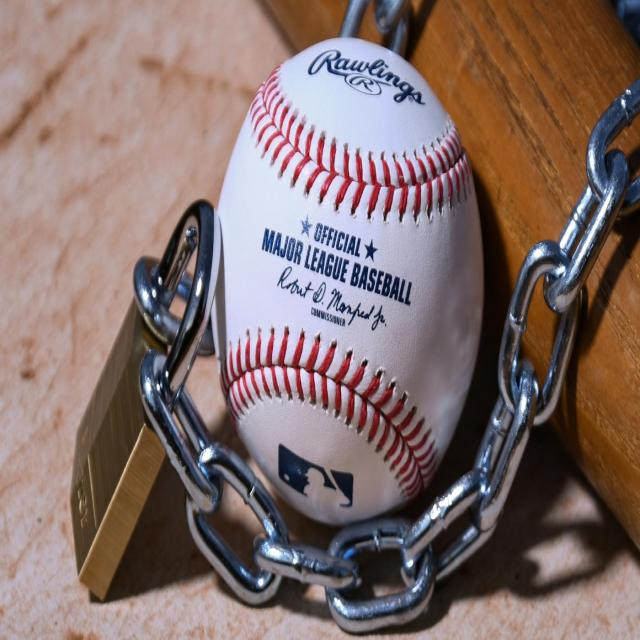baseball: (214, 37, 482, 526)
